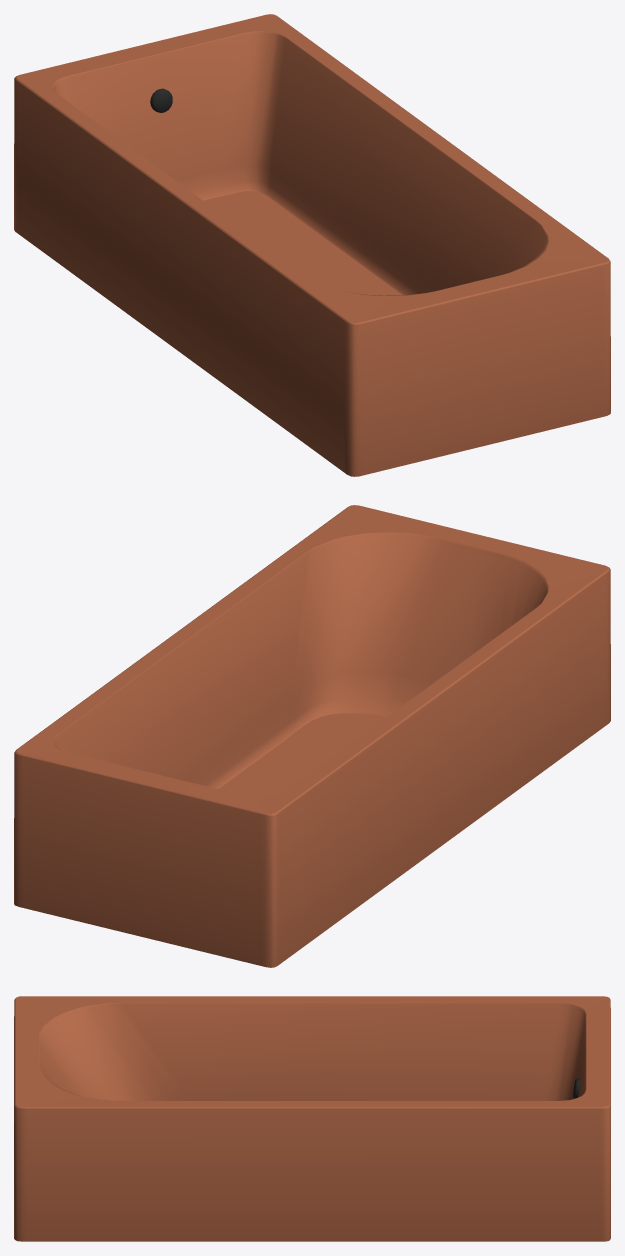
File: vana_IdealStandart.FBX
3 renders of one model, top to bottom at view 1: azimuth 30°, elevation 25°; view 2: azimuth 150°, elevation 25°; view 3: azimuth 270°, elevation 25°, orthographic. The views are drawn at different scales.
Parts seen in each view (by area): view 1: vana_IdealStandart; view 2: vana_IdealStandart; view 3: vana_IdealStandart.
Boxes of the visible parts, box(x1,y1,x2,y2) form: vana_IdealStandart: box(14, 14, 610, 476); vana_IdealStandart: box(14, 505, 610, 967); vana_IdealStandart: box(14, 996, 610, 1241).
Size of the model in its own units: 80 by 44.58 by 180.
